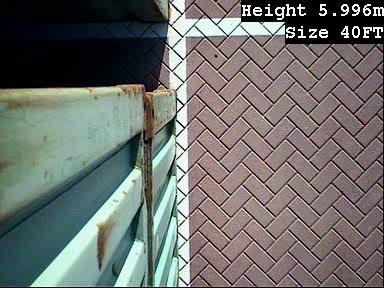groundmarker_2: (282, 39, 341, 78), (279, 173, 338, 211), (292, 7, 335, 41)
